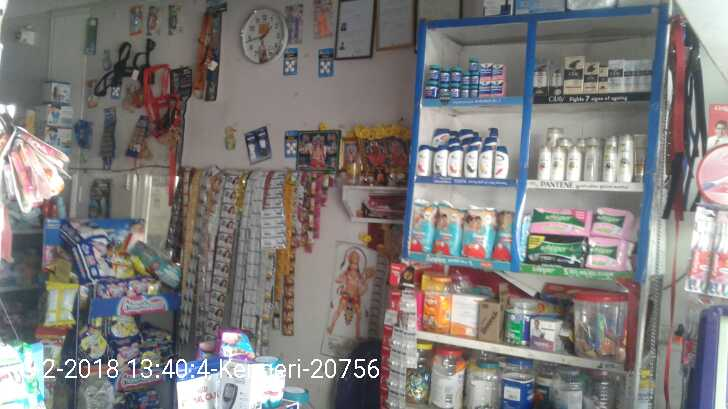beauty: (623, 59, 657, 95), (613, 137, 636, 182), (562, 56, 582, 94), (606, 58, 625, 91), (533, 144, 550, 180), (604, 136, 617, 183), (565, 146, 582, 179), (476, 148, 494, 179), (447, 144, 464, 176), (550, 145, 566, 179), (494, 147, 510, 178), (431, 145, 447, 174), (463, 148, 478, 176), (417, 144, 429, 176), (584, 64, 596, 93)
pharmacy: (524, 235, 589, 262), (464, 203, 493, 258), (587, 206, 637, 237), (588, 238, 632, 273), (530, 208, 589, 233), (436, 206, 465, 255), (411, 200, 437, 253), (496, 208, 513, 262), (479, 59, 509, 75), (480, 79, 506, 97), (461, 79, 478, 98), (422, 80, 438, 97), (426, 62, 440, 81), (450, 64, 461, 80), (443, 66, 450, 81)
